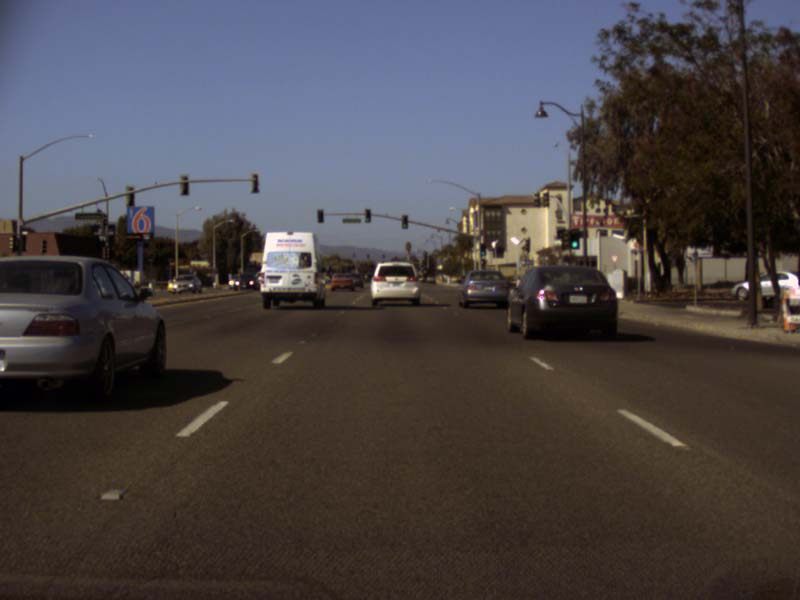Green: (569, 229, 578, 248), (401, 214, 408, 228), (364, 208, 370, 222), (480, 243, 485, 255)
